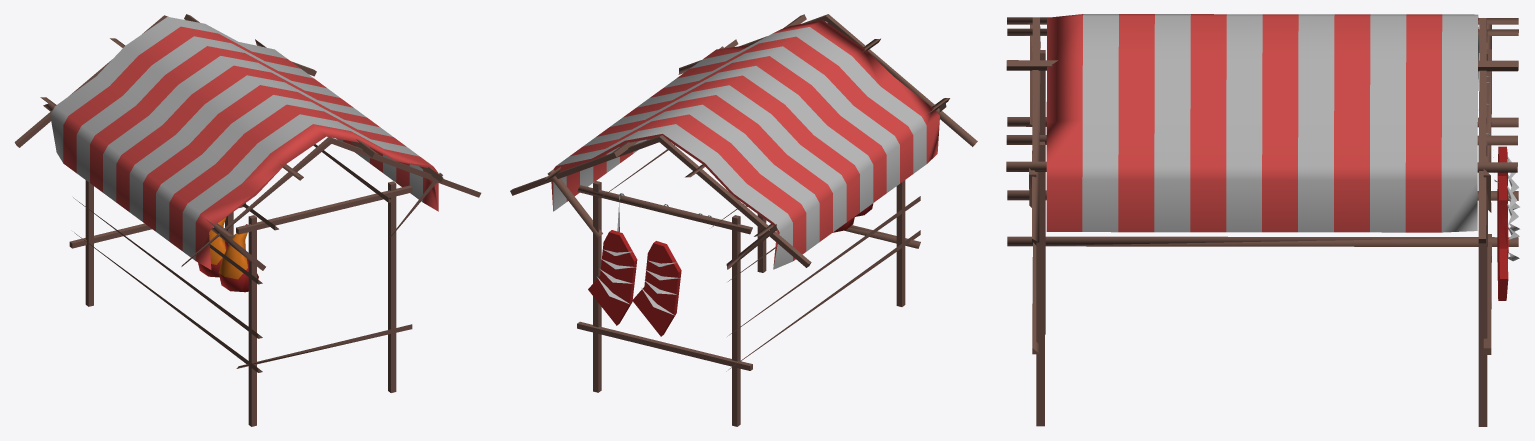
Rendered from sn_stall.glb.
3 views of the same model, side by side, from view 1: azimuth 30°, elevation 25°; view 2: azimuth 150°, elevation 25°; view 3: azimuth 270°, elevation 25° (orthographic). The views are drawn at different scales.
Visible parts, largest first — view 1: sn_stall; view 2: sn_stall; view 3: sn_stall.
Part boxes in pixels (left/top/right/bottom): sn_stall: left=14, top=14, right=481, bottom=426; sn_stall: left=510, top=14, right=977, bottom=426; sn_stall: left=1006, top=14, right=1519, bottom=426.
Size of the model in its own units: 3.72 by 3.22 by 4.09.
